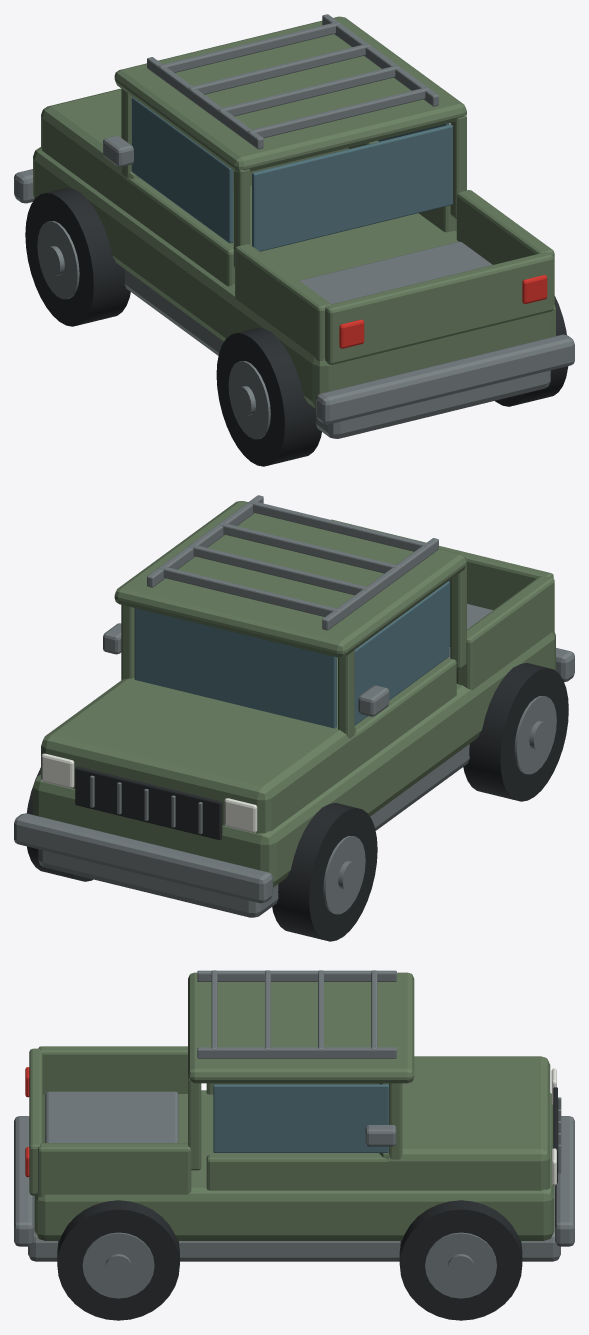
The model's file is SM_TrailTruck.glb.
3 renders of one model, top to bottom at view 1: azimuth 30°, elevation 25°; view 2: azimuth 150°, elevation 25°; view 3: azimuth 270°, elevation 25°, orthographic. The views are drawn at different scales.
Visible parts, largest first — view 1: SM_TrailTruck; view 2: SM_TrailTruck; view 3: SM_TrailTruck.
Part boxes in pixels (bbox=[...]): SM_TrailTruck: bbox=[14, 14, 574, 466]; SM_TrailTruck: bbox=[14, 495, 574, 941]; SM_TrailTruck: bbox=[14, 970, 574, 1320].
Bounding box in the file's own units: 2.31 × 2.06 × 4.21.
